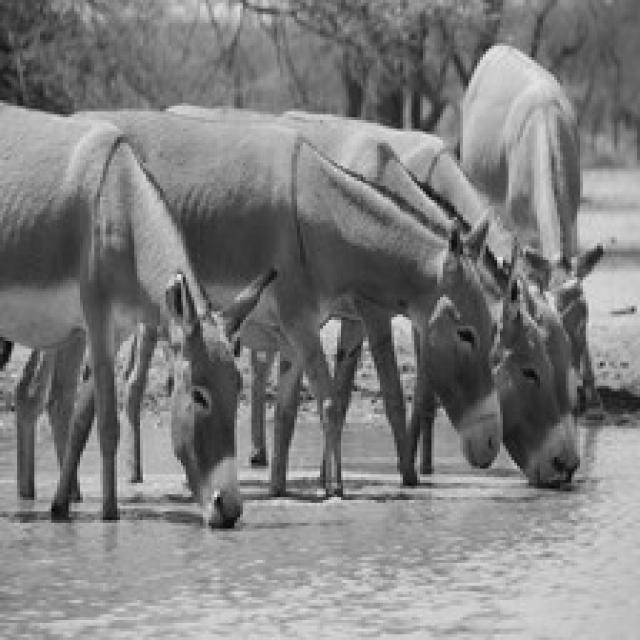Donkey: (66, 103, 503, 497), (170, 72, 586, 484), (0, 94, 277, 526), (457, 40, 603, 420)
